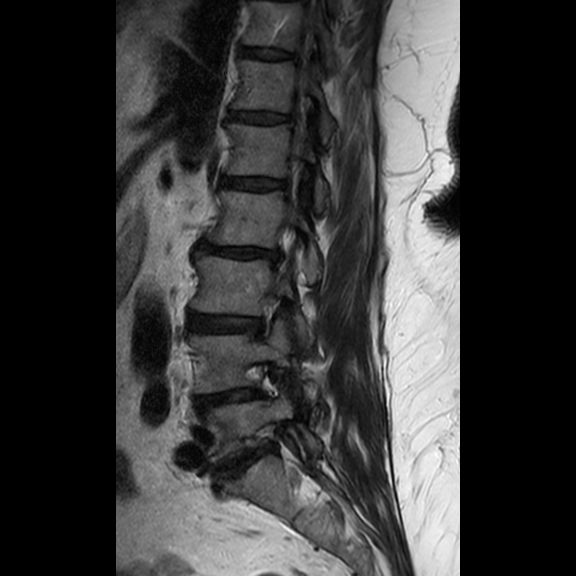LFS0: (237, 349, 293, 410)
LFS1: (240, 284, 292, 348)
